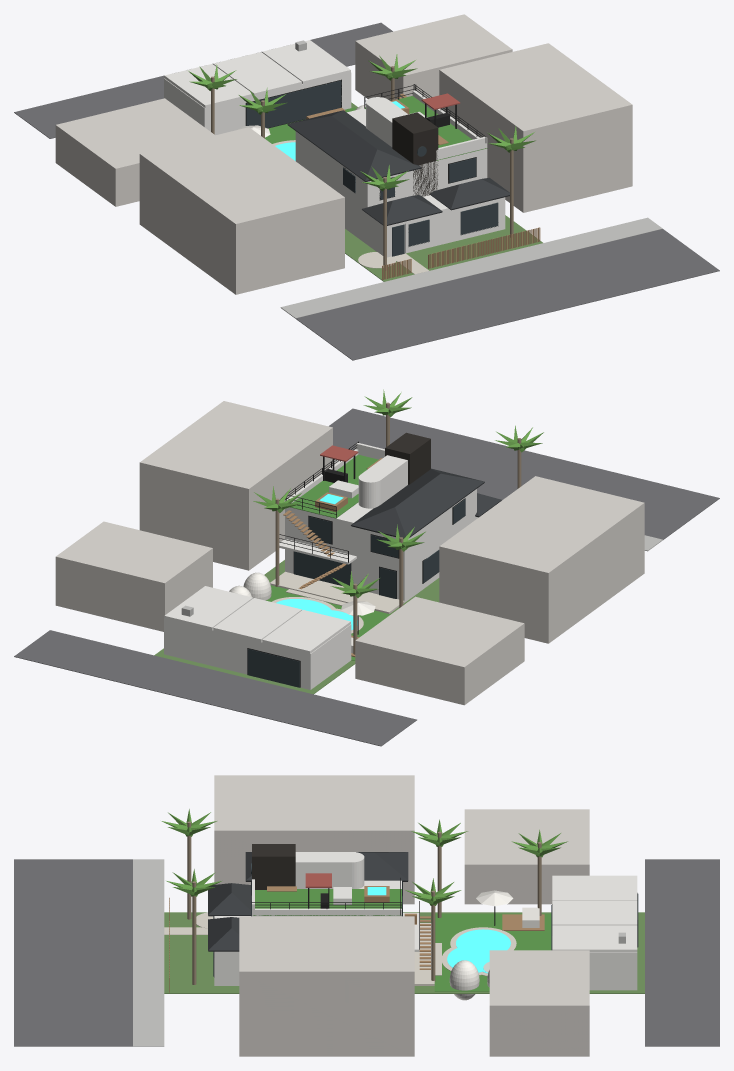
File: house_exterior.glb
3 views of the same model, one above another, from view 1: azimuth 30°, elevation 25°; view 2: azimuth 150°, elevation 25°; view 3: azimuth 270°, elevation 25° (orthographic). The views are drawn at different scales.
Visible parts, largest first — view 1: Neighbour_W0, Neighbour_E0, Street, Neighbour_W1, Neighbour_E1, Sidewalk, Alley, Roof_left_hip, House_left_wing, Lot_ground, House_front_projection, Pavilion (+12 smaller); view 2: Neighbour_W0, Neighbour_E0, Alley, Neighbour_W1, Neighbour_E1, Street, Pavilion, Roof_left_hip, House_left_wing, House_right_block, Pavilion_roof_0, Pavilion_roof_1 (+13 smaller); view 3: Neighbour_E0, Street, Neighbour_W0, Alley, Neighbour_E1, Neighbour_W1, Sidewalk, Lot_ground, Courtyard_turf, Pavilion_roof_2, Deck_turf, Pavilion_roof_1 (+17 smaller).
Part boxes in pixels (bbox=[...]): Neighbour_W0: bbox=[139, 127, 344, 294]; Neighbour_E0: bbox=[439, 43, 632, 212]; Street: bbox=[295, 229, 719, 360]; Neighbour_W1: bbox=[55, 98, 214, 206]; Neighbour_E1: bbox=[355, 14, 512, 100]; Sidewalk: bbox=[280, 217, 662, 318]; Alley: bbox=[14, 22, 392, 138]; Roof_left_hip: bbox=[287, 110, 421, 181]; House_left_wing: bbox=[295, 131, 413, 244]; Lot_ground: bbox=[345, 102, 542, 281]; House_front_projection: bbox=[367, 195, 505, 257]; Pavilion: bbox=[164, 72, 351, 135]; Neighbour_W0: bbox=[439, 476, 644, 643]; Neighbour_E0: bbox=[139, 401, 332, 570]; Alley: bbox=[14, 630, 416, 746]; Neighbour_W1: bbox=[355, 596, 524, 705]; Neighbour_E1: bbox=[55, 521, 212, 631]; Street: bbox=[329, 408, 719, 539]; Pavilion: bbox=[164, 618, 351, 689]; Roof_left_hip: bbox=[351, 468, 484, 538]; House_left_wing: bbox=[359, 489, 476, 602]; House_right_block: bbox=[285, 502, 372, 584]; Pavilion_roof_0: bbox=[262, 610, 350, 653]; Pavilion_roof_1: bbox=[213, 598, 301, 641]; Neighbour_E0: bbox=[239, 916, 414, 1056]; Street: bbox=[14, 859, 132, 1046]; Neighbour_W0: bbox=[214, 775, 414, 904]; Alley: bbox=[645, 859, 719, 1046]; Neighbour_E1: bbox=[489, 950, 589, 1056]; Neighbour_W1: bbox=[464, 809, 589, 904]; Sidewalk: bbox=[133, 859, 164, 1046]; Lot_ground: bbox=[164, 912, 644, 993]; Courtyard_turf: bbox=[434, 913, 551, 991]; Pavilion_roof_2: bbox=[552, 925, 637, 952]; Deck_turf: bbox=[253, 889, 401, 915]; Pavilion_roof_1: bbox=[552, 900, 637, 925].
Size of what is drawn, in the model's own units: 39.3 by 10.53 by 56.4.
